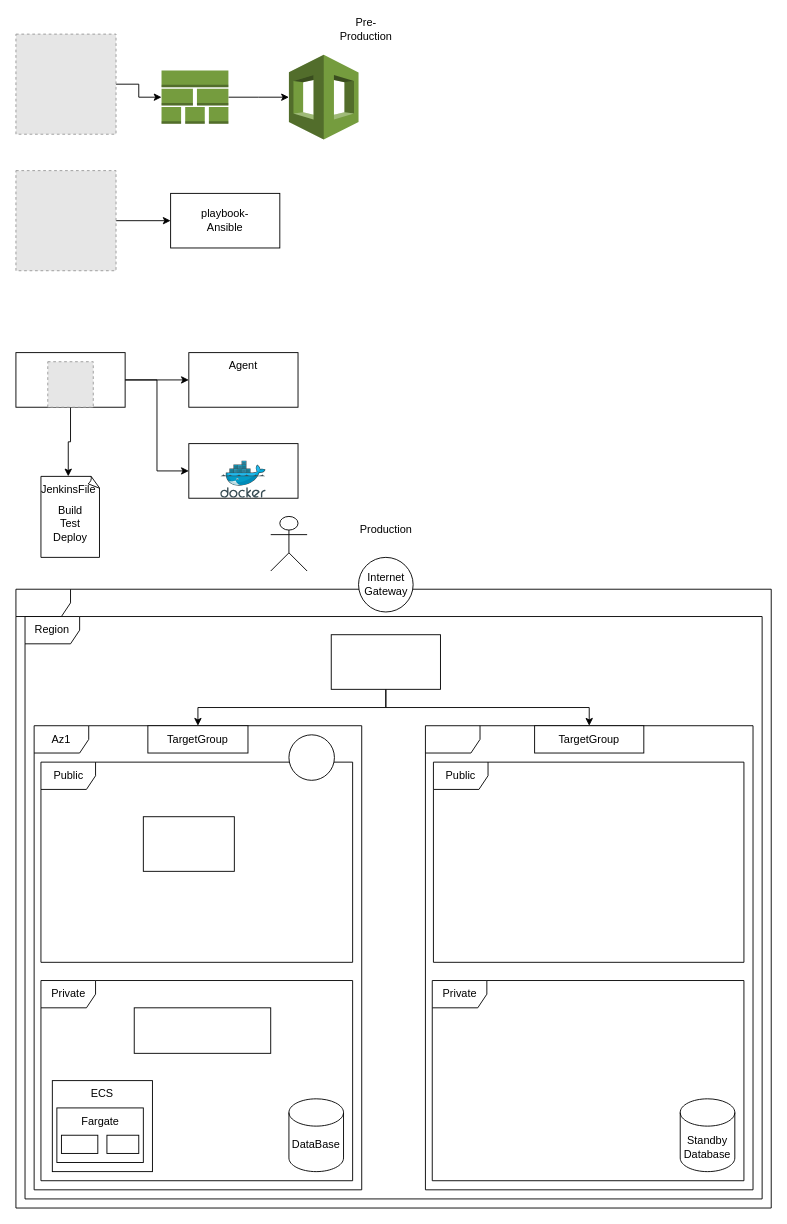
The diagram is 787 pixels wide and 1224 high, and some of its shapes have lost their labels. Grey dashed boxes stand in for pictures. The shapes that lost their labels are listed below. From the top down, each one's box as (x1, y1, x2, y2) in pixels, then its label:
(270, 516, 307, 571): Actor
(330, 634, 440, 689): LoadBalancer
(288, 734, 334, 780): Nat
(142, 816, 234, 871): Bastion Host
(15, 588, 771, 1208): VPC
(425, 725, 753, 1190): Az2
(133, 1007, 271, 1053): EC2: NGINX? Reverse Proxy
